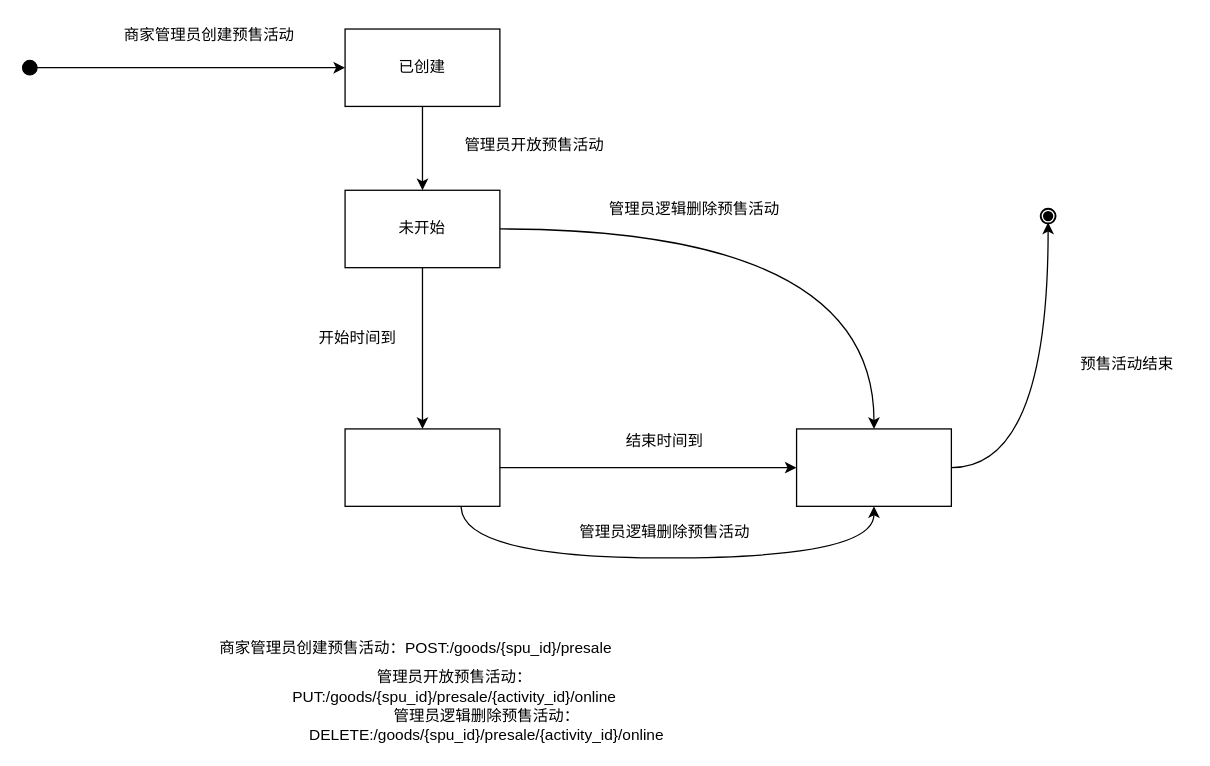
Some shapes in this 1210 by 766 pixel diagram are drawn without their labels. The shapes that lost their labels are listed below. From the top down, each one's centre as x and y in pixels, then its label:
At pixel 422 467: "进行中".
At pixel 873 467: "已关闭".
